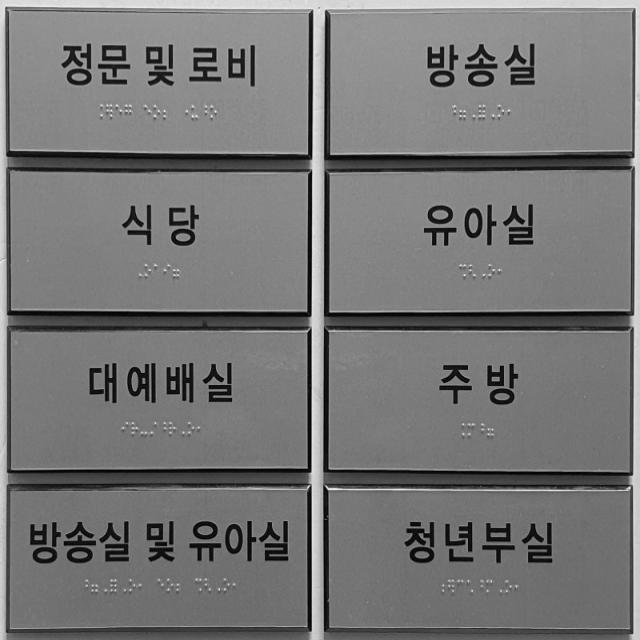braiile: (152, 104, 162, 123), (162, 104, 172, 123), (467, 263, 478, 280), (142, 104, 152, 122), (190, 103, 200, 121), (208, 104, 218, 122), (134, 262, 144, 280), (158, 420, 168, 438), (466, 422, 476, 440), (486, 422, 496, 440), (447, 104, 457, 122), (458, 103, 467, 122), (94, 104, 104, 121), (180, 104, 190, 121), (152, 263, 162, 280), (162, 263, 172, 280), (120, 420, 130, 437), (168, 421, 178, 438), (90, 578, 100, 595), (165, 577, 175, 594), (436, 578, 446, 595), (446, 578, 456, 595), (494, 579, 504, 596), (456, 422, 466, 439), (466, 578, 475, 596), (485, 578, 494, 596), (504, 578, 513, 596), (497, 262, 506, 280), (199, 104, 209, 120), (99, 578, 109, 594), (212, 577, 222, 593), (222, 577, 232, 593), (232, 577, 242, 593), (514, 579, 524, 595), (476, 423, 486, 439), (487, 263, 497, 279), (496, 104, 506, 120), (115, 103, 124, 120), (131, 420, 140, 437), (140, 420, 149, 437), (178, 421, 187, 438), (156, 577, 165, 594), (175, 577, 184, 594), (194, 577, 203, 594), (204, 577, 213, 594), (456, 578, 465, 595), (458, 263, 467, 280), (105, 104, 114, 120), (124, 103, 132, 121), (143, 262, 152, 278), (172, 263, 181, 279), (149, 420, 158, 436), (196, 421, 205, 437), (80, 578, 89, 594), (109, 578, 118, 594), (119, 579, 128, 595), (128, 578, 137, 594), (137, 578, 146, 594), (475, 579, 484, 595), (478, 263, 487, 279), (468, 104, 477, 120), (477, 104, 486, 120), (488, 104, 497, 120), (506, 104, 515, 120), (187, 421, 195, 437)
